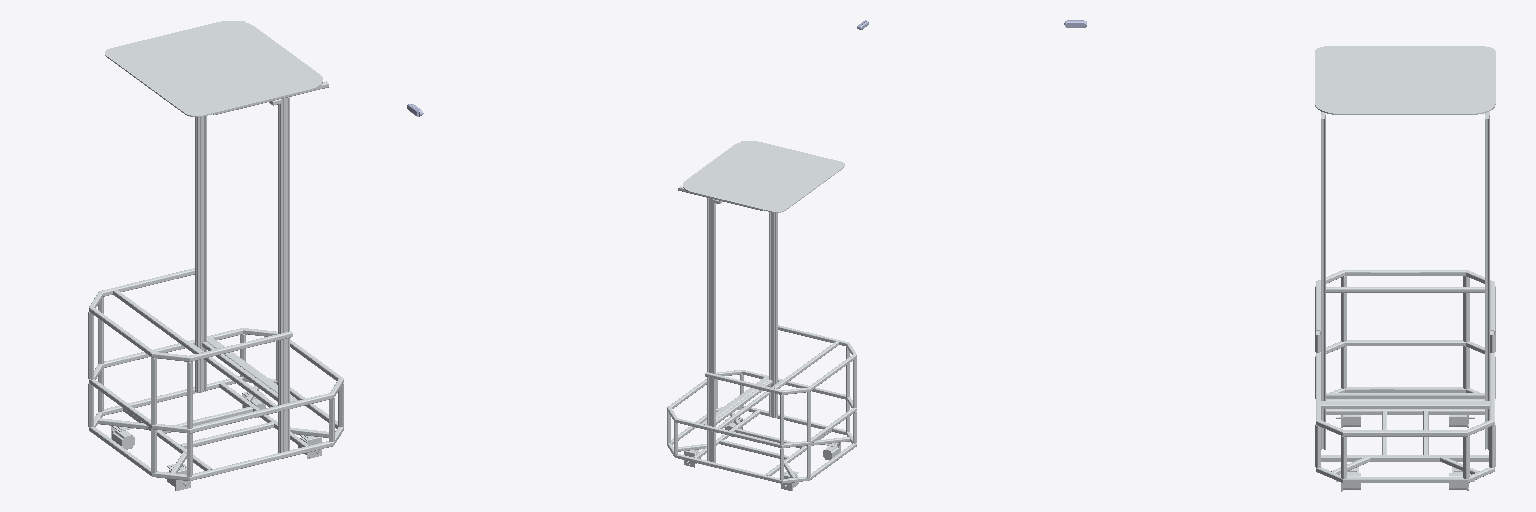
The robot description file, URDF, robot "Assem1.SLDASM":
<?xml version="1.0" encoding="utf-8"?>
<!-- This URDF was automatically created by SolidWorks to URDF Exporter! Originally created by [author] ([email redacted]) 
     Commit Version: 1.6.0-4-g7f85cfe  Build Version: 1.6.7995.38578
     For more information, please see http://wiki.ros.org/sw_urdf_exporter -->
<robot
  name="Assem1.SLDASM">
  <link
    name="base_link">
    <inertial>
      <origin
        xyz="0.448179476770501 1.01108544051734 1.27387741080002"
        rpy="0 0 0" />
      <mass
        value="10.8735823353818" />
      <inertia
        ixx="0.605736148428764"
        ixy="4.26645077702127E-10"
        ixz="2.77638500546024E-11"
        iyy="0.287638492340419"
        iyz="-3.40483004859627E-10"
        izz="0.556682927799354" />
    </inertial>
    <visual>
      <origin
        xyz="0 0 0"
        rpy="0 0 0" />
      <geometry>
        <mesh
          filename="package://Assem1.SLDASM/meshes/base_link.STL" />
      </geometry>
      <material
        name="">
        <color
          rgba="0.898039215686275 0.917647058823529 0.929411764705882 1" />
      </material>
    </visual>
    <collision>
      <origin
        xyz="0 0 0"
        rpy="0 0 0" />
      <geometry>
        <mesh
          filename="package://Assem1.SLDASM/meshes/base_link.STL" />
      </geometry>
    </collision>
  </link>
  <link
    name="FLlink">
    <inertial>
      <origin
        xyz="0.0291705646423368 -8.14921315150929E-08 -3.92430942741662E-08"
        rpy="0 0 0" />
      <mass
        value="0.188668093199324" />
      <inertia
        ixx="9.46725242167147E-05"
        ixy="-2.72208105405879E-11"
        ixz="2.15387278364328E-11"
        iyy="6.0667865849471E-05"
        iyz="2.21289856584993E-10"
        izz="6.06664544929904E-05" />
    </inertial>
    <visual>
      <origin
        xyz="0 0 0"
        rpy="0 0 0" />
      <geometry>
        <mesh
          filename="package://Assem1.SLDASM/meshes/FLlink.STL" />
      </geometry>
      <material
        name="">
        <color
          rgba="0.752941176470588 0.752941176470588 0.752941176470588 1" />
      </material>
    </visual>
    <collision>
      <origin
        xyz="0 0 0"
        rpy="0 0 0" />
      <geometry>
        <mesh
          filename="package://Assem1.SLDASM/meshes/FLlink.STL" />
      </geometry>
    </collision>
  </link>
  <joint
    name="FLJoint"
    type="continuous">
    <origin
      xyz="0.17183 -1.535 0.28967"
      rpy="0 0 0" />
    <parent
      link="base_link" />
    <child
      link="FLlink" />
    <axis
      xyz="1 0 0" />
  </joint>
  <link
    name="BLlink">
    <inertial>
      <origin
        xyz="0.00699999886366642 3.9962489317702E-08 8.27054728036458E-08"
        rpy="0 0 0" />
      <mass
        value="0.377335515104805" />
      <inertia
        ixx="0.00018934425340134"
        ixy="4.52783900770123E-11"
        ixz="-2.3537263708423E-11"
        iyy="0.000121333656647772"
        iyz="1.328062560047E-09"
        izz="0.000121334049938571" />
    </inertial>
    <visual>
      <origin
        xyz="0 0 0"
        rpy="0 0 0" />
      <geometry>
        <mesh
          filename="package://Assem1.SLDASM/meshes/BLlink.STL" />
      </geometry>
      <material
        name="">
        <color
          rgba="0.752941176470588 0.752941176470588 0.752941176470588 1" />
      </material>
    </visual>
    <collision>
      <origin
        xyz="0 0 0"
        rpy="0 0 0" />
      <geometry>
        <mesh
          filename="package://Assem1.SLDASM/meshes/BLlink.STL" />
      </geometry>
    </collision>
  </link>
  <joint
    name="BLJoint"
    type="continuous">
    <origin
      xyz="0.74883 -1.526 0.28967"
      rpy="0 0 0" />
    <parent
      link="base_link" />
    <child
      link="BLlink" />
    <axis
      xyz="1 0 0" />
  </joint>
  <link
    name="BRlink">
    <inertial>
      <origin
        xyz="-0.0244131600233083 8.16218461707763E-08 4.21946462214606E-08"
        rpy="0 0 0" />
      <mass
        value="0.188667746517334" />
      <inertia
        ixx="9.46720928420982E-05"
        ixy="2.69671152170288E-11"
        ixz="-2.19385184989903E-11"
        iyy="6.06675477533837E-05"
        iyz="8.03642128633319E-11"
        izz="6.06663132556774E-05" />
    </inertial>
    <visual>
      <origin
        xyz="0 0 0"
        rpy="0 0 0" />
      <geometry>
        <mesh
          filename="package://Assem1.SLDASM/meshes/BRlink.STL" />
      </geometry>
      <material
        name="">
        <color
          rgba="0.752941176470588 0.752941176470588 0.752941176470588 1" />
      </material>
    </visual>
    <collision>
      <origin
        xyz="0 0 0"
        rpy="0 0 0" />
      <geometry>
        <mesh
          filename="package://Assem1.SLDASM/meshes/BRlink.STL" />
      </geometry>
    </collision>
  </link>
  <joint
    name="BRJoint"
    type="continuous">
    <origin
      xyz="0.74883 -0.96819 0.28967"
      rpy="0 0 0" />
    <parent
      link="base_link" />
    <child
      link="BRlink" />
    <axis
      xyz="1 0 0" />
  </joint>
  <link
    name="FRlink">
    <inertial>
      <origin
        xyz="0.0605836969687106 -3.84086067395373E-08 -8.16450756030429E-08"
        rpy="0 0 0" />
      <mass
        value="0.377335776659428" />
      <inertia
        ixx="0.000189344345798505"
        ixy="-4.43476417629842E-11"
        ixz="2.03011386279003E-11"
        iyy="0.000121333625952411"
        iyz="1.28265668879456E-09"
        izz="0.000121334183885115" />
    </inertial>
    <visual>
      <origin
        xyz="0 0 0"
        rpy="0 0 0" />
      <geometry>
        <mesh
          filename="package://Assem1.SLDASM/meshes/FRlink.STL" />
      </geometry>
      <material
        name="">
        <color
          rgba="0.752941176470588 0.752941176470588 0.752941176470588 1" />
      </material>
    </visual>
    <collision>
      <origin
        xyz="0 0 0"
        rpy="0 0 0" />
      <geometry>
        <mesh
          filename="package://Assem1.SLDASM/meshes/FRlink.STL" />
      </geometry>
    </collision>
  </link>
  <joint
    name="FRJoint"
    type="continuous">
    <origin
      xyz="0.17183 -0.96819 0.28967"
      rpy="0 0 0" />
    <parent
      link="base_link" />
    <child
      link="FRlink" />
    <axis
      xyz="1 0 0" />
  </joint>
  <link
    name="Camera">
    <inertial>
      <origin
        xyz="0.00111199098943748 2.78348667868134E-05 0.0125996884110157"
        rpy="0 0 0" />
      <mass
        value="1.26688353536978" />
      <inertia
        ixx="0.000114531279249736"
        ixy="4.05579542497447E-08"
        ixz="-1.13413795064262E-05"
        iyy="0.000771597084162044"
        iyz="2.05555091754155E-07"
        izz="0.000763733375600652" />
    </inertial>
    <visual>
      <origin
        xyz="0 0 0"
        rpy="0 0 0" />
      <geometry>
        <mesh
          filename="package://Assem1.SLDASM/meshes/Camera.STL" />
      </geometry>
      <material
        name="">
        <color
          rgba="0.792156862745098 0.819607843137255 0.933333333333333 1" />
      </material>
    </visual>
    <collision>
      <origin
        xyz="0 0 0"
        rpy="0 0 0" />
      <geometry>
        <mesh
          filename="package://Assem1.SLDASM/meshes/Camera.STL" />
      </geometry>
    </collision>
  </link>
  <joint
    name="CameraJoint"
    type="fixed">
    <origin
      xyz="0.1503 -1.2739 1.8784"
      rpy="0 0 0" />
    <parent
      link="base_link" />
    <child
      link="Camera" />
    <axis
      xyz="0 0 0" />
  </joint>
</robot>

--- Facts derived from the render (not from the file) ---
Views: 3 orthographic renders of the robot side by side, from view 1: azimuth 30°, elevation 25°; view 2: azimuth 150°, elevation 25°; view 3: azimuth 270°, elevation 25°.
Model Assem1.SLDASM with 6 links and 5 joints (4 continuous, 1 fixed), rooted at base_link, posed every joint at zero.
Links seen in each view (by area): view 1: base_link; view 2: base_link; view 3: base_link.
Link boxes in pixels (box(x1,y1,x2,y2)): base_link: box(88, 21, 343, 490); base_link: box(667, 141, 856, 490); base_link: box(1315, 46, 1495, 491).
Bounding box of the posed robot: 0.8487 × 1.67 × 1.92 m (x, y, z).
Meshes: 6 distinct files referenced, 2 mesh visuals loaded (2 binary STL); not drawn: 4 (reference not matched to a file when rendering).